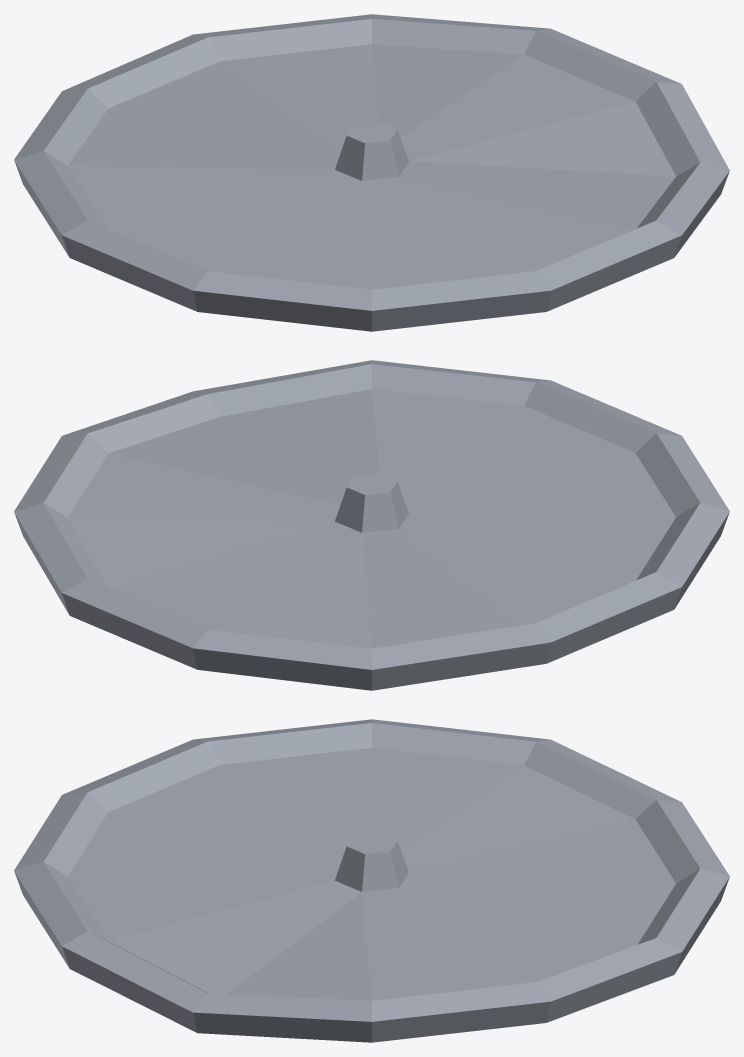
File: SM_Prop_Pot_Large_Lid_01.glb
The picture shows the model from 3 angles, top to bottom: view 1: azimuth 30°, elevation 25°; view 2: azimuth 150°, elevation 25°; view 3: azimuth 270°, elevation 25°; orthographic projection.
Visible parts, largest first — view 1: SM_Prop_Pot_Large_Lid_01; view 2: SM_Prop_Pot_Large_Lid_01; view 3: SM_Prop_Pot_Large_Lid_01.
Boxes of the visible parts, x1=… form: SM_Prop_Pot_Large_Lid_01: x1=14, y1=14, x2=729, y2=331; SM_Prop_Pot_Large_Lid_01: x1=14, y1=360, x2=729, y2=690; SM_Prop_Pot_Large_Lid_01: x1=14, y1=719, x2=729, y2=1042.
Size of the model in its own units: 1.38 by 0.1321 by 1.38.
1 material, 1 textured.
